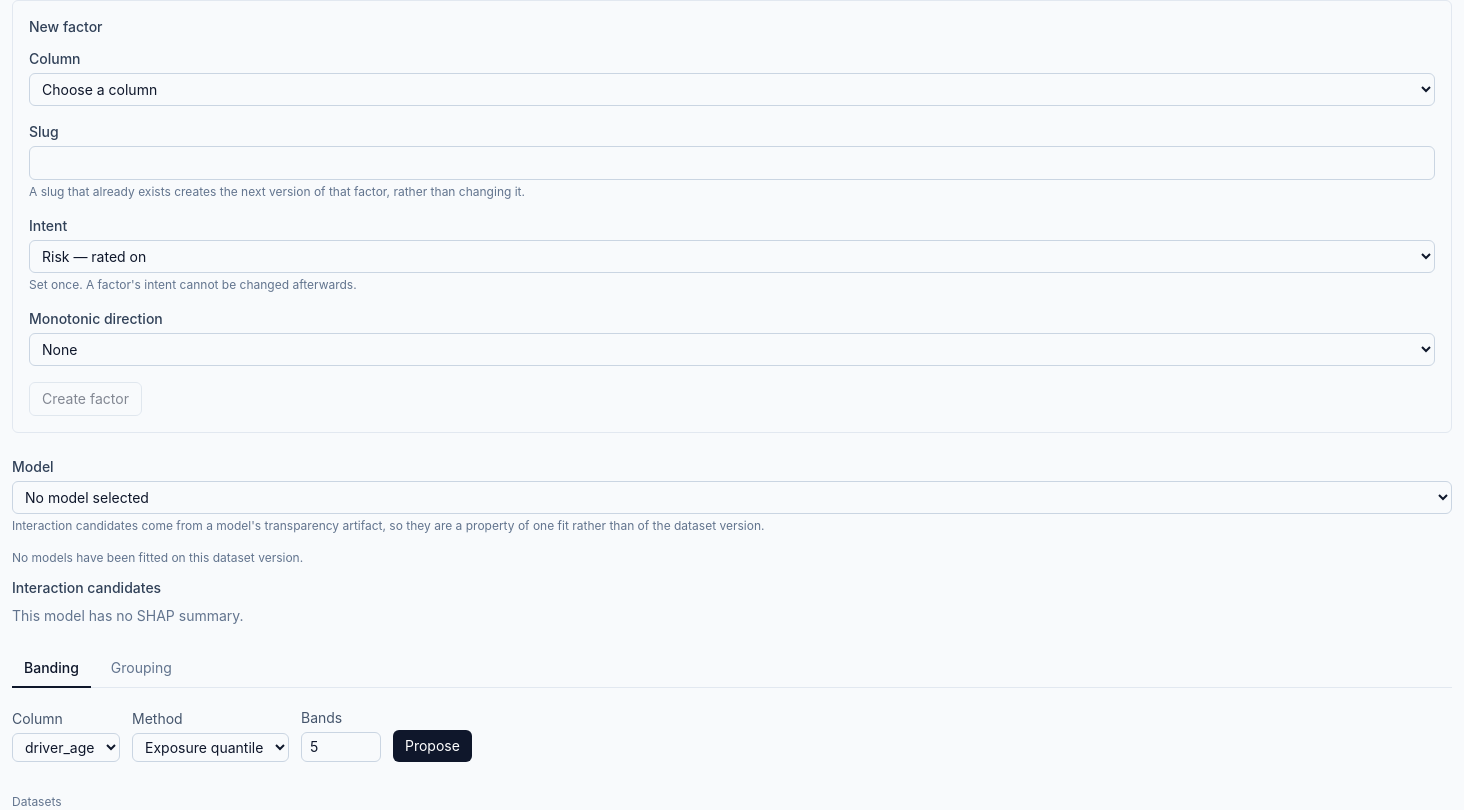
Test: the factor workbench › shows the deviance and df a merge costs, and reads the p-value out loud
(page scrolled)
What coordinates should you click on to do the following:
click the tab "grouping"
I would click on:
 (141, 669)
Its box is [99,650,184,688].
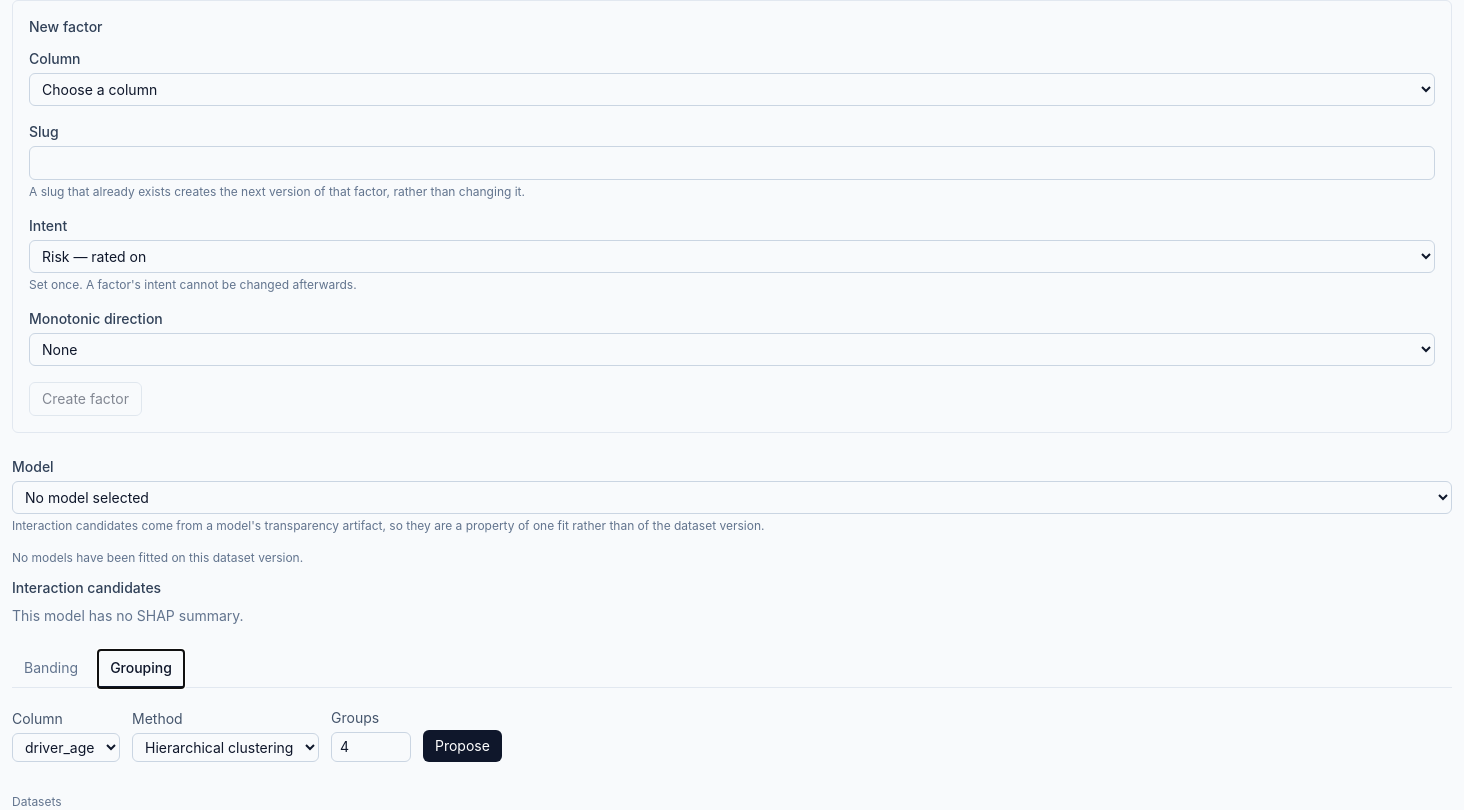
What coordinates should you click on to do the following:
click the button "Propose"
I would click on:
 (462, 746)
Its box is [423,730,502,762].
(page scrolled)
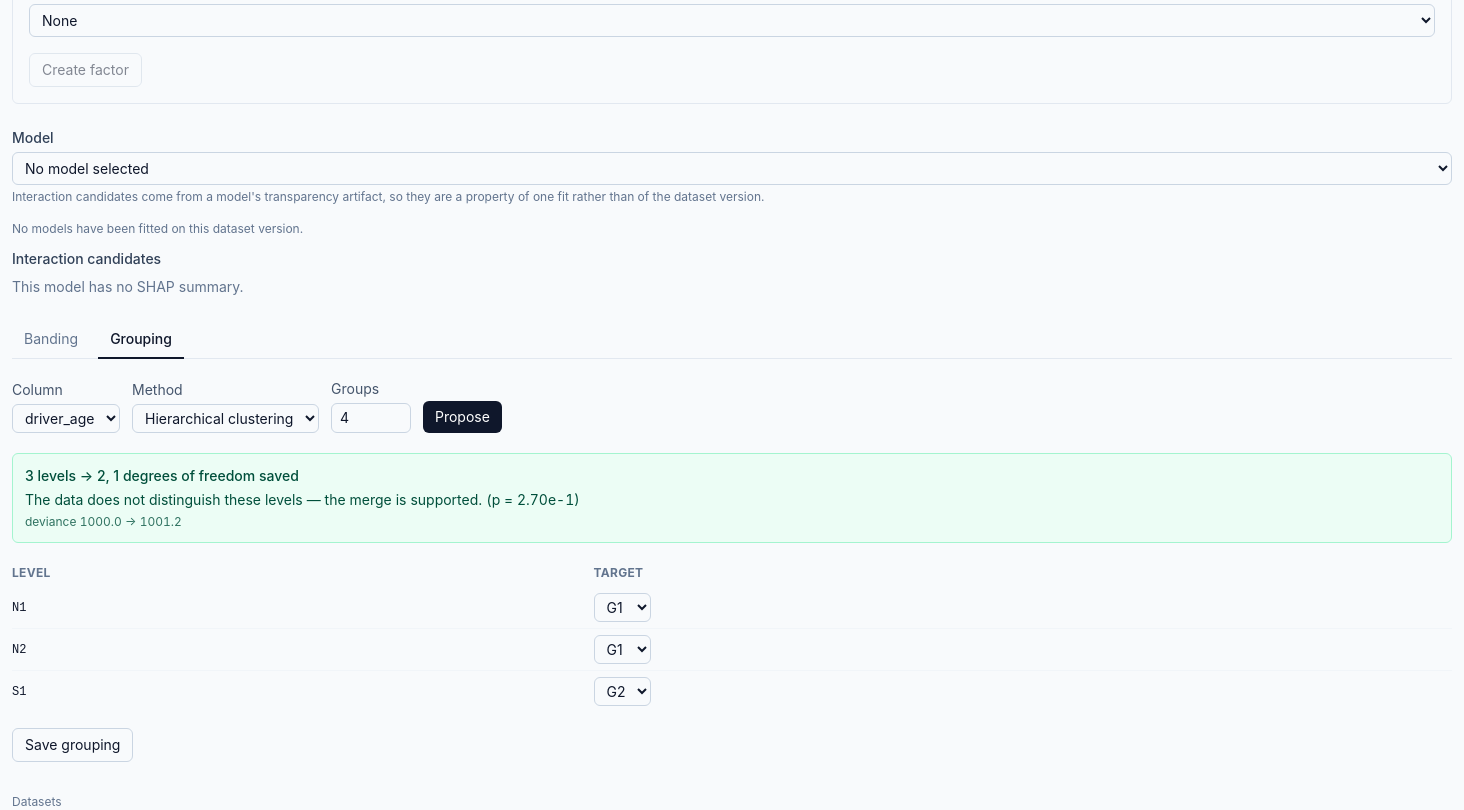
Expected: the element with test id "merge-verdict" shows "3 levels → 2", [25,467,299,484]
Expected: the element with test id "merge-verdict" shows "1 degrees of freedom saved", [25,467,299,484]
Expected: the element with test id "merge-verdict" shows "does not distinguish", [25,491,486,508]
